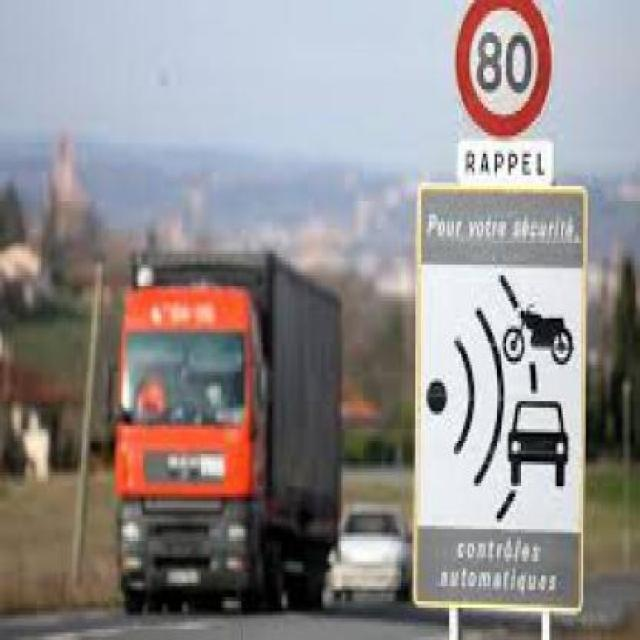forb_speed_over_80: (454, 3, 554, 140)
